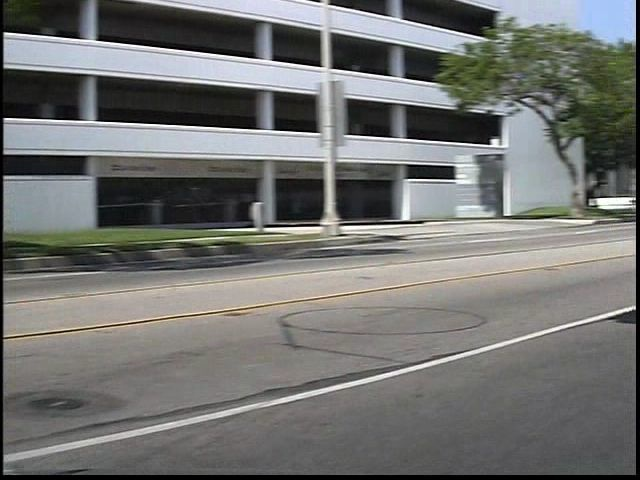person: (0, 177, 24, 245)
